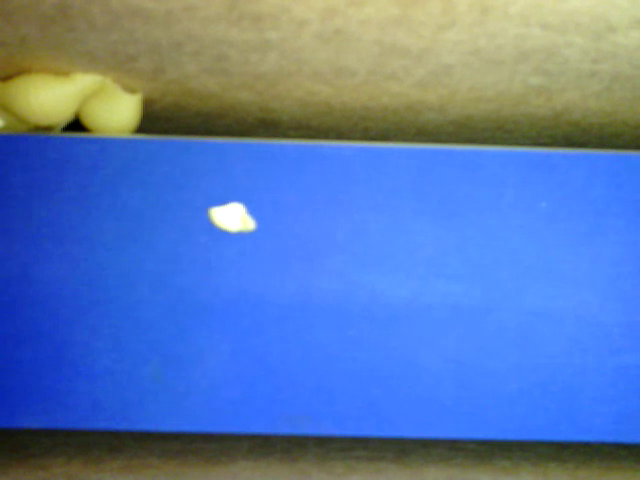shell: (1, 68, 105, 125), (74, 76, 142, 138), (1, 115, 74, 134)
